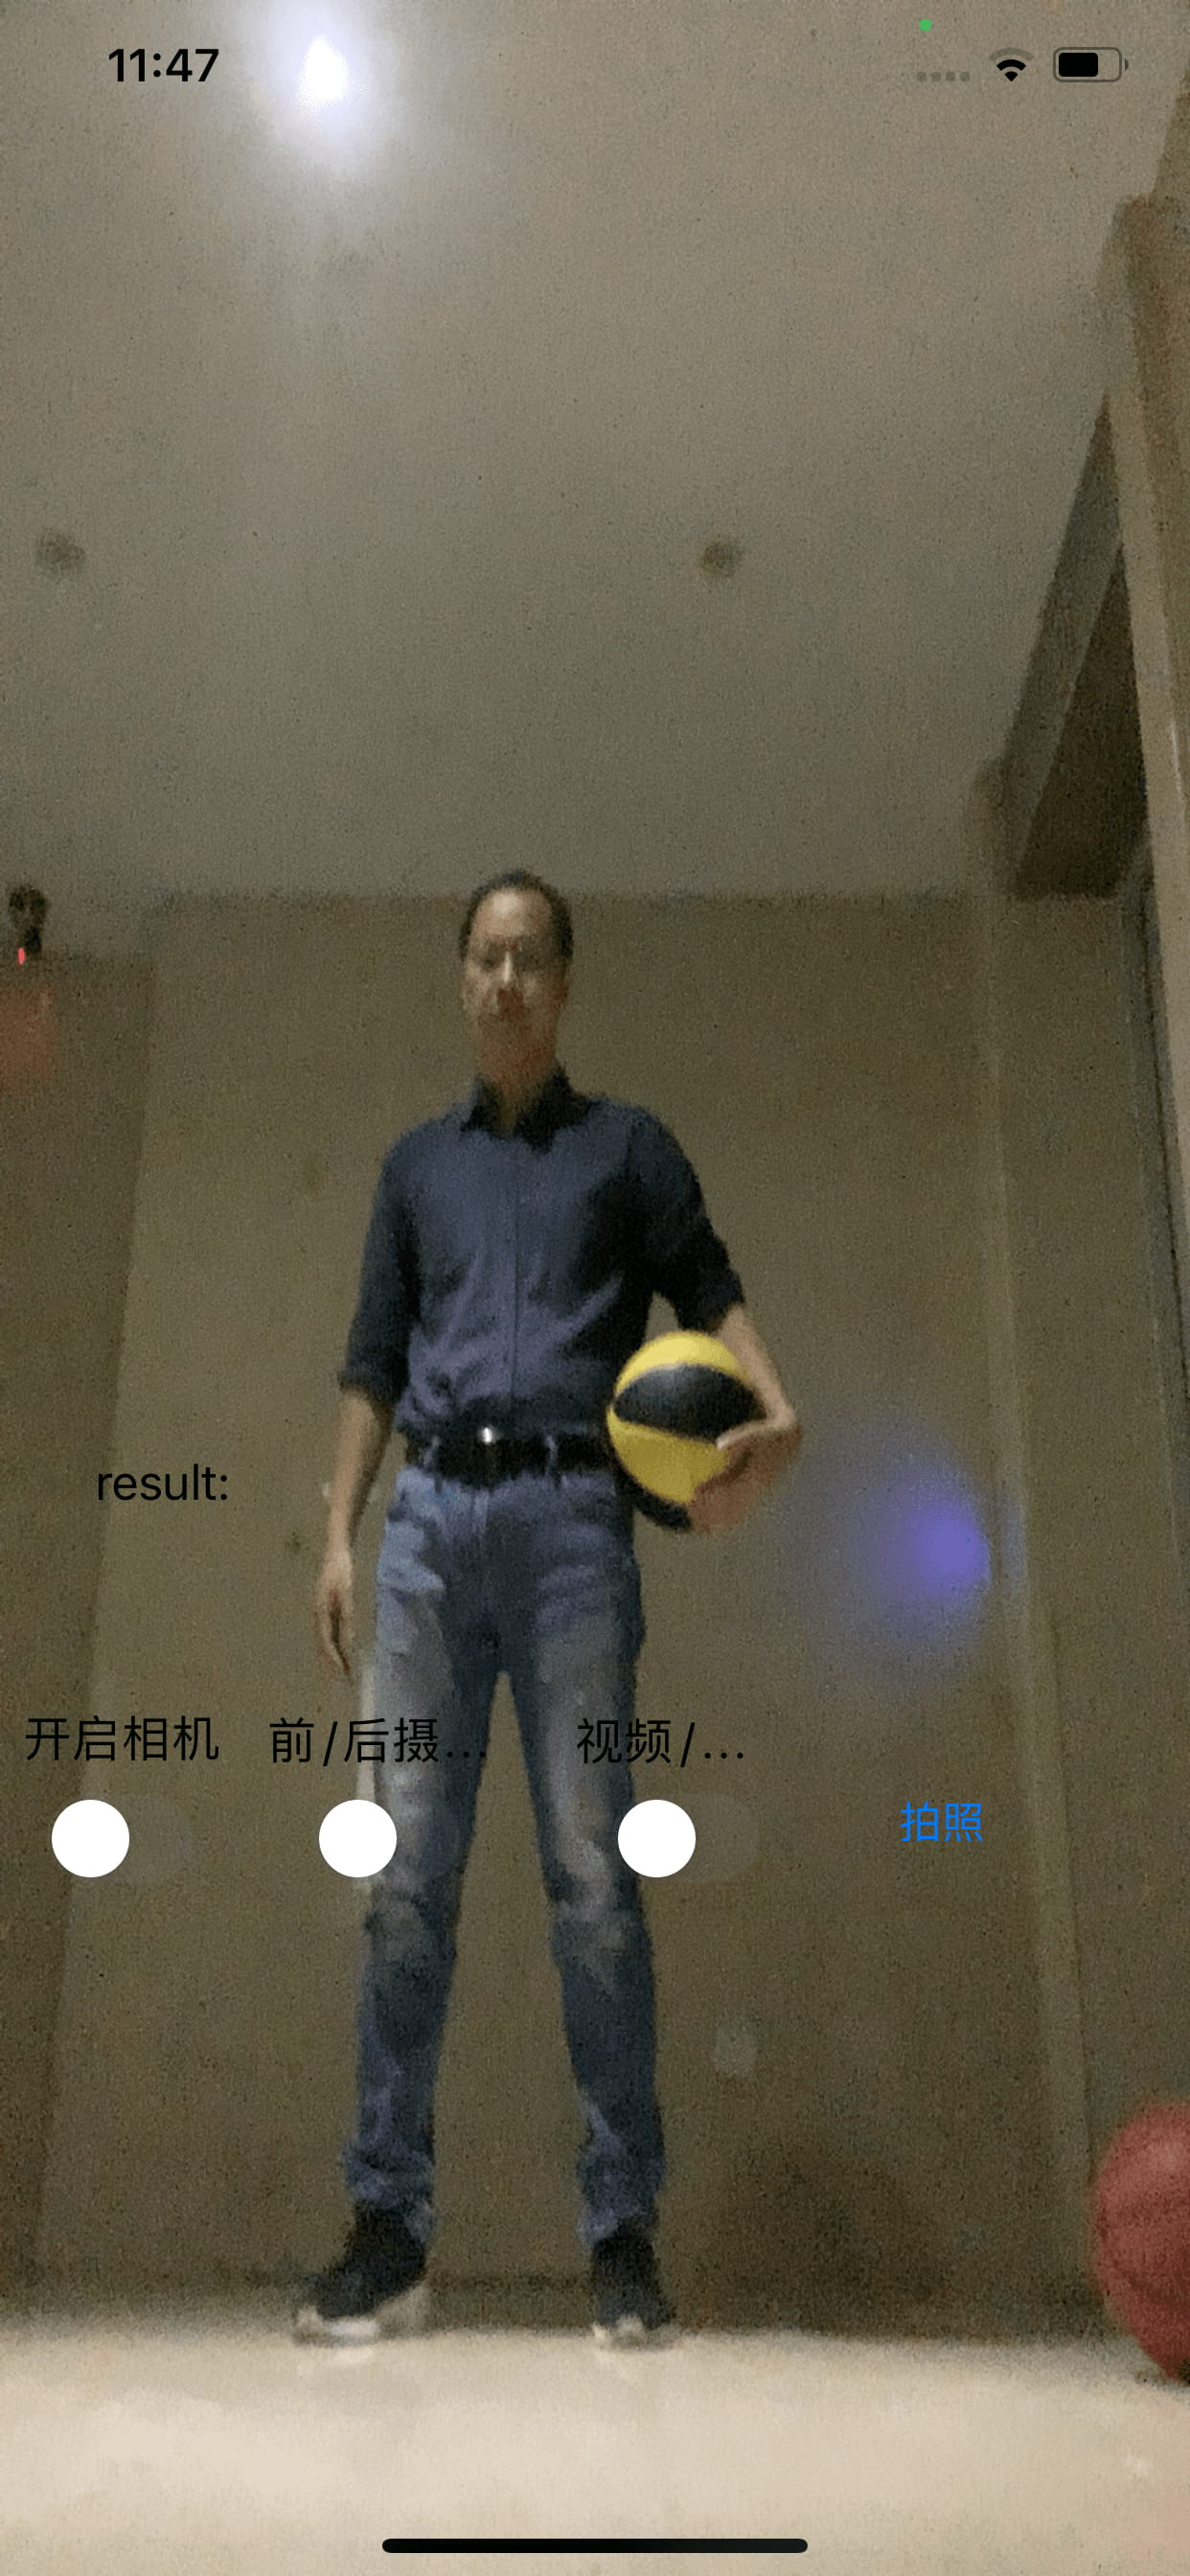ball: (605, 1321, 773, 1515), (1093, 2098, 1190, 2385)
